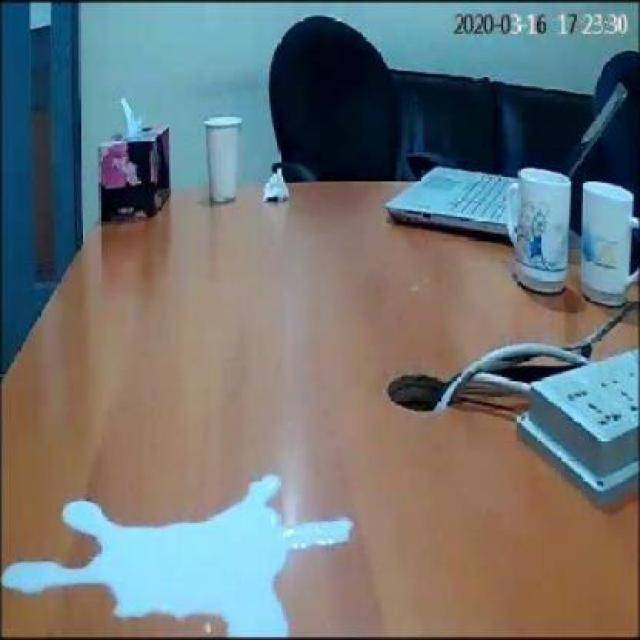spillage: (2, 475, 352, 638)
